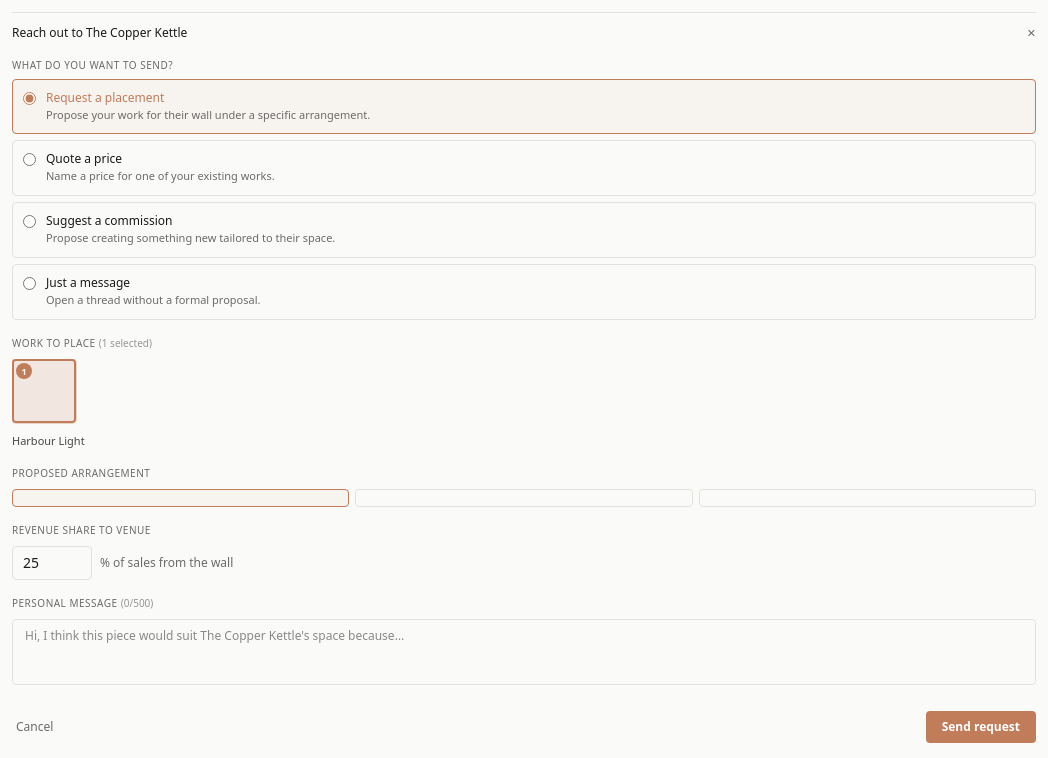
Scenario: SpacesPlacementRequestForm — 429 error copy › shows the cap sentence, not the machine code, when the API refuses
What coordinates should you click on to do the following:
click the button "Send request"
I would click on:
 (981, 726)
Its box is [926,710,1036,742].
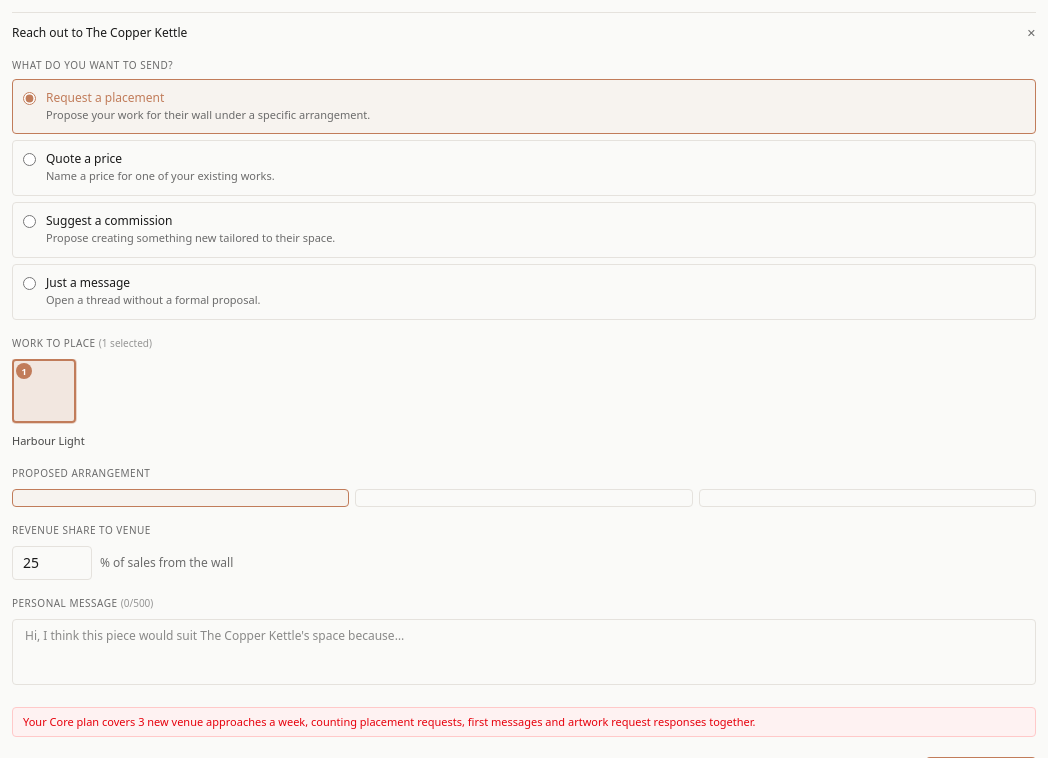
Expected: the text "Your Core plan covers 3 new venue approaches a week, counting placement requests, first messages and artwork request res" is shown, [23,714,756,728]
